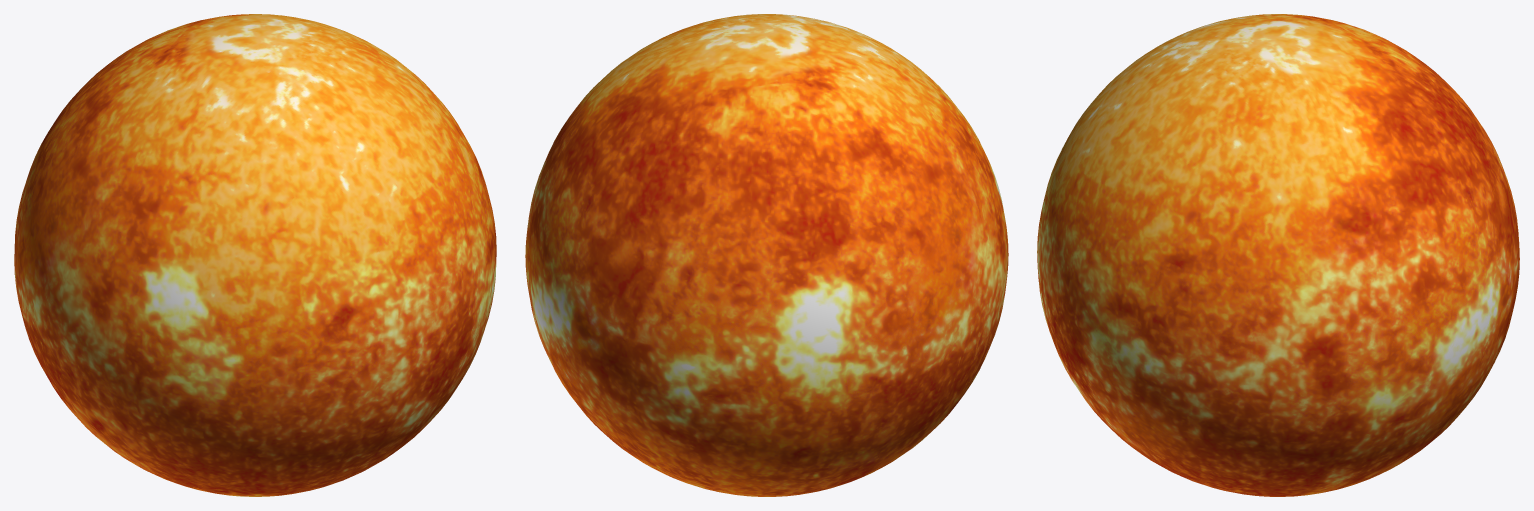
The model's file is Sun.obj.
3 views of the same model, side by side, from view 1: azimuth 30°, elevation 25°; view 2: azimuth 150°, elevation 25°; view 3: azimuth 270°, elevation 25° (orthographic).
Parts seen in each view (by area): view 1: sun1; view 2: sun1; view 3: sun1.
Part boxes in pixels (box(x1,y1,x2,y2)): sun1: box(14, 14, 496, 496); sun1: box(525, 14, 1008, 496); sun1: box(1037, 14, 1519, 496).
Size of the model in its own units: 1.99 by 1.99 by 1.99.
